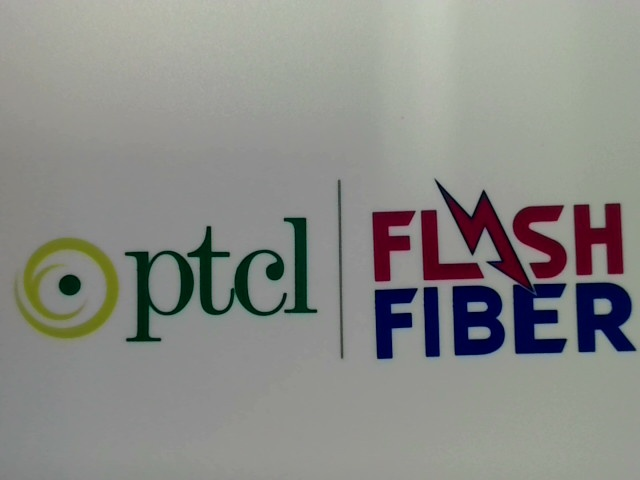BF_PTCL: (6, 198, 320, 346)
